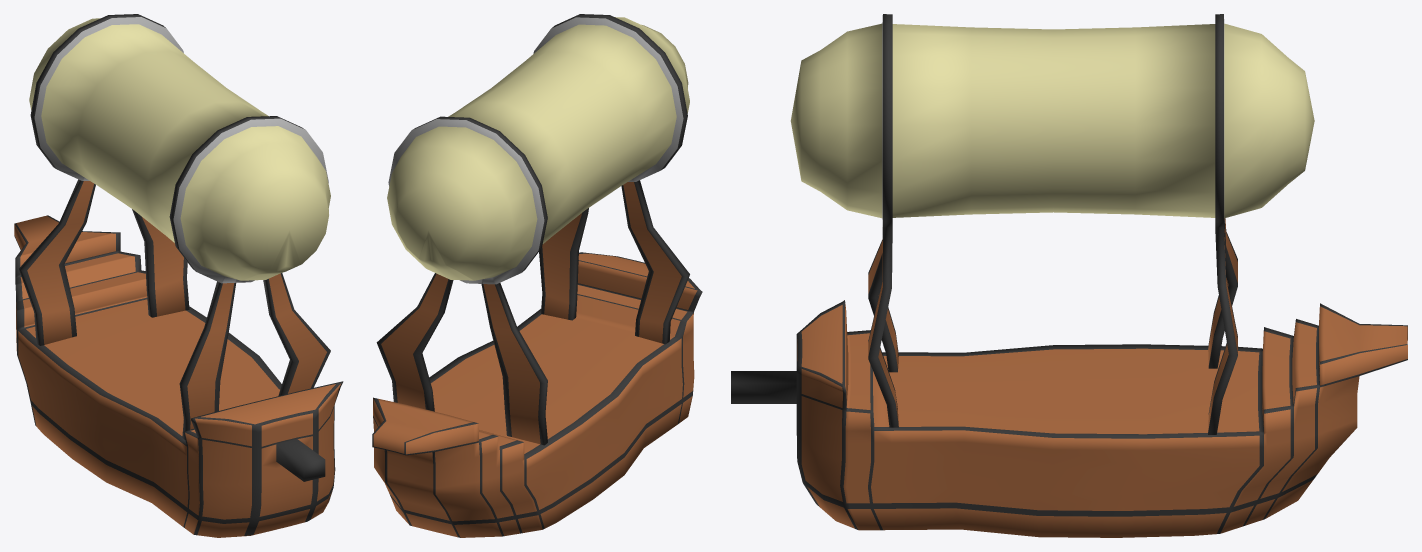
Rendered from ship.fbx.
3 renders of one model, left to right at view 1: azimuth 30°, elevation 25°; view 2: azimuth 150°, elevation 25°; view 3: azimuth 270°, elevation 25°, orthographic. The views are drawn at different scales.
Visible parts, largest first — view 1: Airship; view 2: Airship; view 3: Airship.
Part boxes in pixels (bbox=[...]): Airship: bbox=[14, 14, 343, 537]; Airship: bbox=[372, 14, 702, 537]; Airship: bbox=[731, 14, 1407, 537].
Size of the model in its own units: 322 by 749 by 944.
